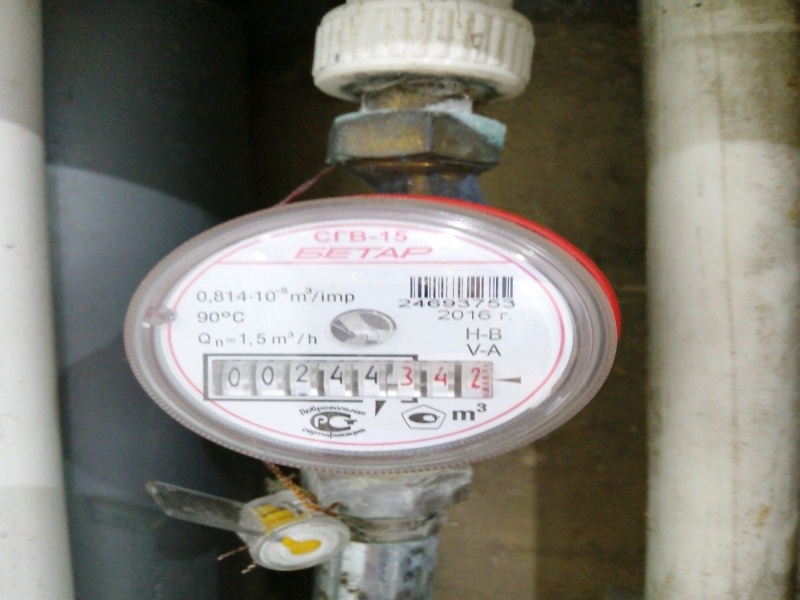dial: (194, 351, 491, 401)
